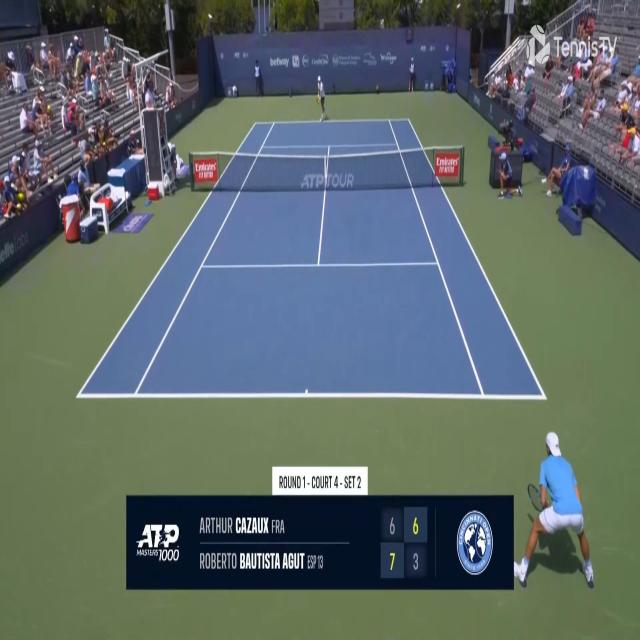tennis-player: (518, 427, 600, 592), (315, 75, 327, 122)
